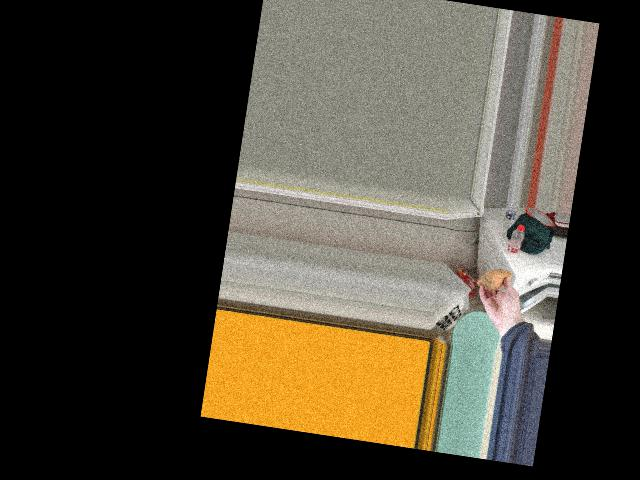sweet_potato: (479, 266, 511, 296)
